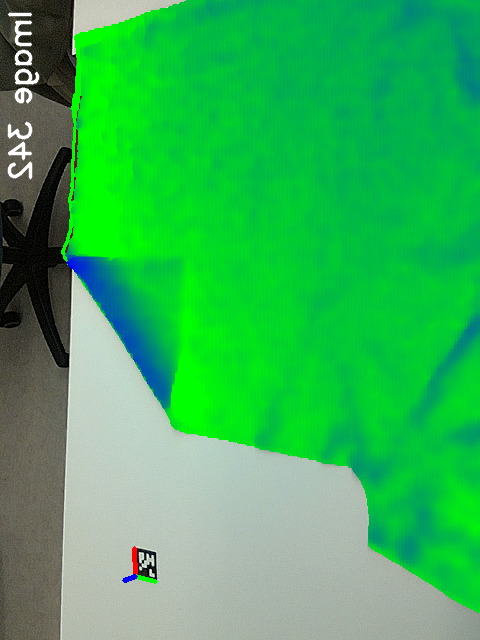V: (135, 238, 198, 301)
